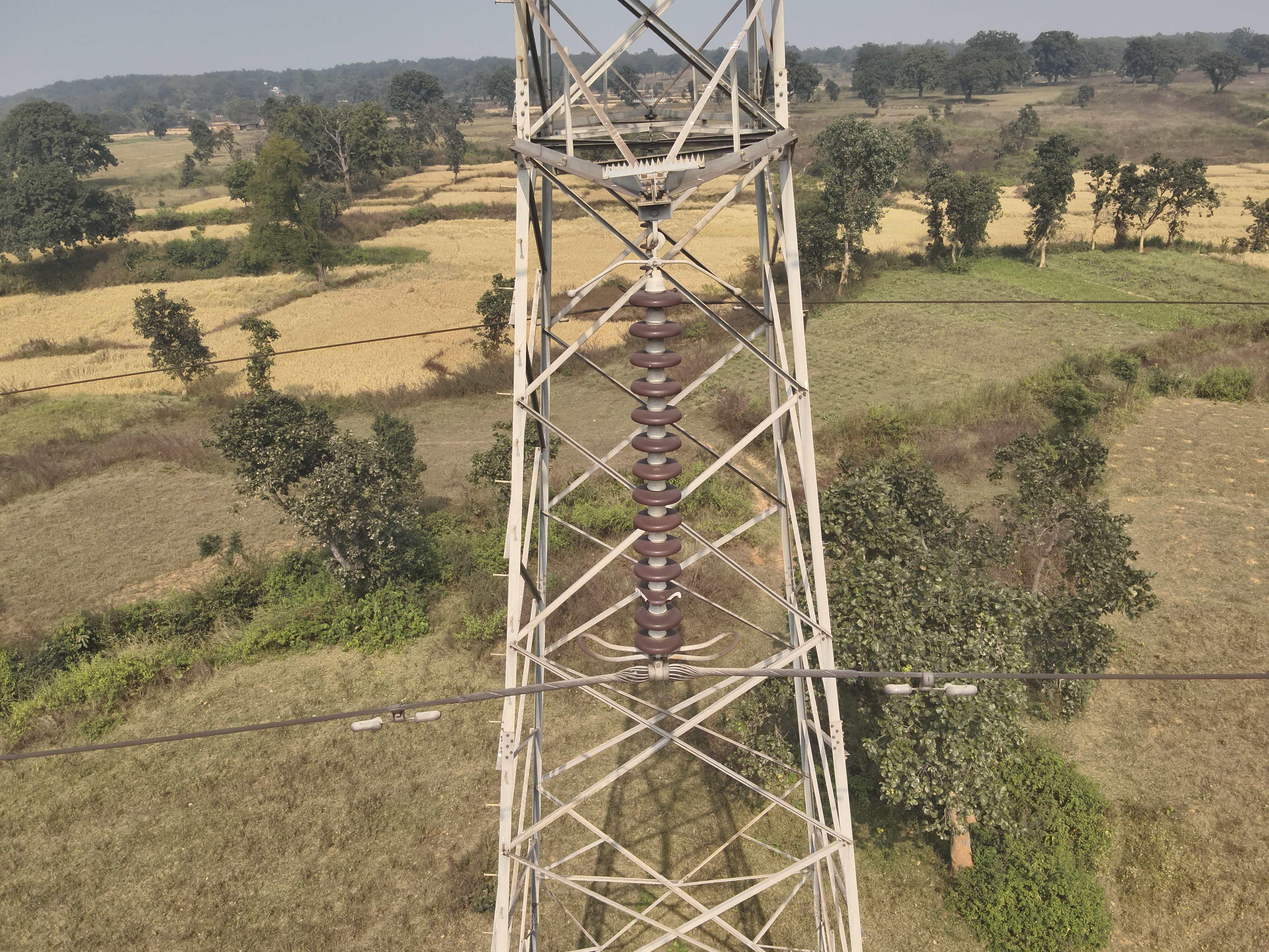broken_insulator: (630, 581, 684, 611)
